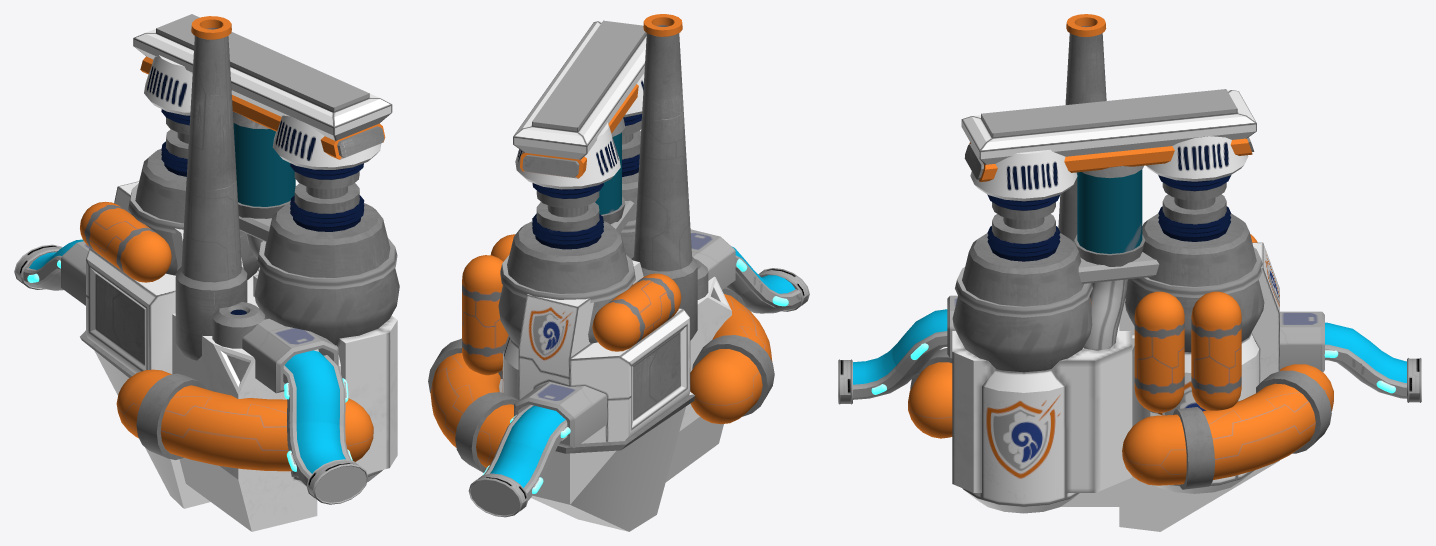
Rendered from smelter.fbx.
3 views of the same model, side by side, from view 1: azimuth 30°, elevation 25°; view 2: azimuth 150°, elevation 25°; view 3: azimuth 270°, elevation 25° (orthographic). The views are drawn at different scales.
Parts seen in each view (by area): view 1: Cylinder.234, Cylinder.231, Icosphere.043, Cube.286, Cube.293, Cube.291, Cylinder.232, Cube.296, Cube.292, Cylinder.233, Icosphere.050, Cube.295 (+6 smaller); view 2: Cube.293, Cylinder.232, Cylinder.231, Cube.286, Icosphere.043, Icosphere.052, Icosphere.053, Icosphere.050, Cube.309, Cube.291, Cube.260, Cube.296 (+5 smaller); view 3: Cylinder.234, Cylinder.232, Cube.286, Icosphere.052, Cube.292, Cylinder.233, Icosphere.051, Cube.293, Icosphere.053, Cylinder.231, Cube.296, Cube.309 (+6 smaller).
Boxes of the visible parts, x1=… form: Cylinder.234: x1=254, y1=115, x2=399, y2=485; Cylinder.231: x1=175, y1=16, x2=247, y2=360; Icosphere.043: x1=116, y1=369, x2=373, y2=476; Cube.286: x1=133, y1=14, x2=392, y2=159; Cube.293: x1=80, y1=181, x2=243, y2=508; Cube.291: x1=172, y1=292, x2=317, y2=531; Cylinder.232: x1=128, y1=55, x2=259, y2=295; Cube.296: x1=283, y1=350, x2=352, y2=485; Cube.292: x1=253, y1=275, x2=397, y2=473; Cylinder.233: x1=233, y1=111, x2=295, y2=218; Icosphere.050: x1=80, y1=201, x2=171, y2=282; Cube.295: x1=242, y1=318, x2=338, y2=393; Cube.293: x1=518, y1=260, x2=695, y2=531; Cylinder.232: x1=498, y1=122, x2=635, y2=399; Cylinder.231: x1=631, y1=14, x2=697, y2=340; Cube.286: x1=513, y1=20, x2=646, y2=178; Icosphere.043: x1=690, y1=287, x2=774, y2=424; Icosphere.052: x1=428, y1=338, x2=518, y2=472; Icosphere.053: x1=462, y1=255, x2=508, y2=375; Icosphere.050: x1=592, y1=273, x2=681, y2=351; Cube.309: x1=482, y1=405, x2=570, y2=500; Cube.291: x1=665, y1=276, x2=731, y2=482; Cube.260: x1=514, y1=382, x2=606, y2=447; Cube.296: x1=727, y1=246, x2=801, y2=313; Cylinder.234: x1=952, y1=149, x2=1092, y2=513; Cylinder.232: x1=1125, y1=136, x2=1264, y2=493; Cube.286: x1=961, y1=89, x2=1256, y2=181; Icosphere.052: x1=1122, y1=364, x2=1333, y2=489; Cube.292: x1=952, y1=331, x2=1132, y2=492; Cylinder.233: x1=1074, y1=165, x2=1145, y2=266; Icosphere.051: x1=1134, y1=291, x2=1184, y2=412; Cube.293: x1=1119, y1=242, x2=1279, y2=531; Icosphere.053: x1=1191, y1=291, x2=1241, y2=410; Cylinder.231: x1=1058, y1=14, x2=1106, y2=242; Cube.296: x1=853, y1=309, x2=947, y2=399; Cube.309: x1=1324, y1=322, x2=1406, y2=398.
Bounding box in the file's own units: 879 × 1521 × 1656.
